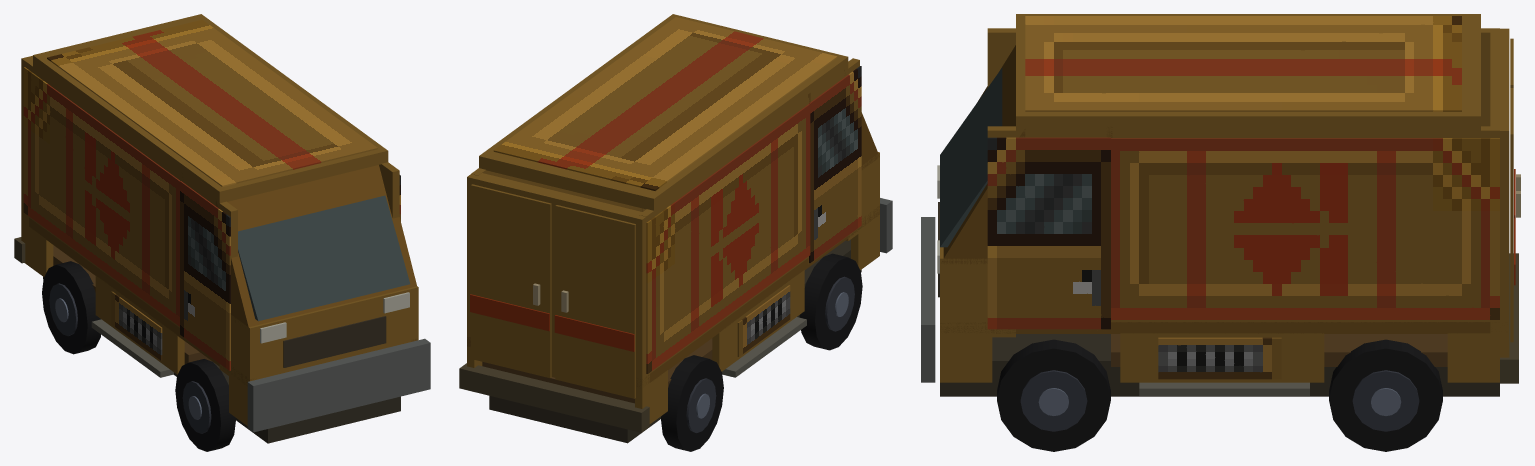
The model's file is CMU3DAU14PropVehicleKellandMiningVan.glb.
3 views of the same model, side by side, from view 1: azimuth 30°, elevation 25°; view 2: azimuth 150°, elevation 25°; view 3: azimuth 270°, elevation 25° (orthographic). The views are drawn at different scales.
Visible parts, largest first — view 1: original roof panel, original damaged mining logo panel -1, sloping windshield, front bumper, long roof shell, original cab door -1, sloping windshield frame, front cab lower, tire 0 -1, tire 1 -1, front grille, central chassis (+14 smaller); view 2: original roof panel, rear split cargo door (×2), original damaged mining logo panel -1, long roof shell, original cab door -1, rear body closure, rear bumper, tire 0 -1, tire 1 -1, rear red company stripe (×2), central chassis, wheel opening skirt -1 1 (+14 smaller); view 3: original damaged mining logo panel 1, original roof panel, original cab door 1, long roof shell, tire 0 1, tire 1 1, sloping windshield, upper wheel rail 1, original sill vent 1, central chassis, wheel opening skirt 1 1, rear body closure (+18 smaller).
Part boxes in pixels (x1,y1,x2,y2): original roof panel: [47, 19, 377, 186]; original damaged mining logo panel -1: [23, 67, 180, 326]; sloping windshield: [238, 195, 410, 321]; front bumper: [247, 338, 430, 432]; long roof shell: [33, 14, 388, 203]; original cab door -1: [180, 181, 230, 370]; sloping windshield frame: [215, 165, 416, 327]; front cab lower: [219, 286, 418, 389]; tire 0 -1: [175, 359, 235, 451]; tire 1 -1: [42, 261, 100, 354]; front grille: [283, 316, 386, 367]; central chassis: [43, 277, 400, 443]; original roof panel: [493, 17, 837, 190]; rear split cargo door (×2): [471, 184, 635, 398]; original damaged mining logo panel -1: [646, 104, 810, 373]; long roof shell: [479, 14, 848, 210]; original cab door -1: [809, 66, 861, 263]; rear body closure: [467, 173, 649, 398]; rear bumper: [459, 363, 649, 432]; tire 0 -1: [799, 253, 862, 350]; tire 1 -1: [661, 355, 723, 451]; rear red company stripe (×2): [470, 294, 634, 351]; central chassis: [489, 239, 861, 443]; wheel opening skirt -1 1: [712, 270, 804, 371]; original damaged mining logo panel 1: [1111, 138, 1499, 319]; original roof panel: [1025, 16, 1461, 111]; original cab door 1: [987, 137, 1110, 329]; long roof shell: [1016, 14, 1480, 131]; tire 0 1: [997, 339, 1110, 451]; tire 1 1: [1329, 339, 1442, 451]; sloping windshield: [940, 68, 1002, 247]; upper wheel rail 1: [940, 322, 1496, 333]; original sill vent 1: [1158, 337, 1281, 379]; central chassis: [940, 334, 1499, 396]; wheel opening skirt 1 1: [1120, 333, 1324, 382]; rear body closure: [1490, 28, 1509, 345].
Bounding box in the file's own units: 0.89 × 1.21 × 1.98.
Materials: 21 (4 with a texture image).
